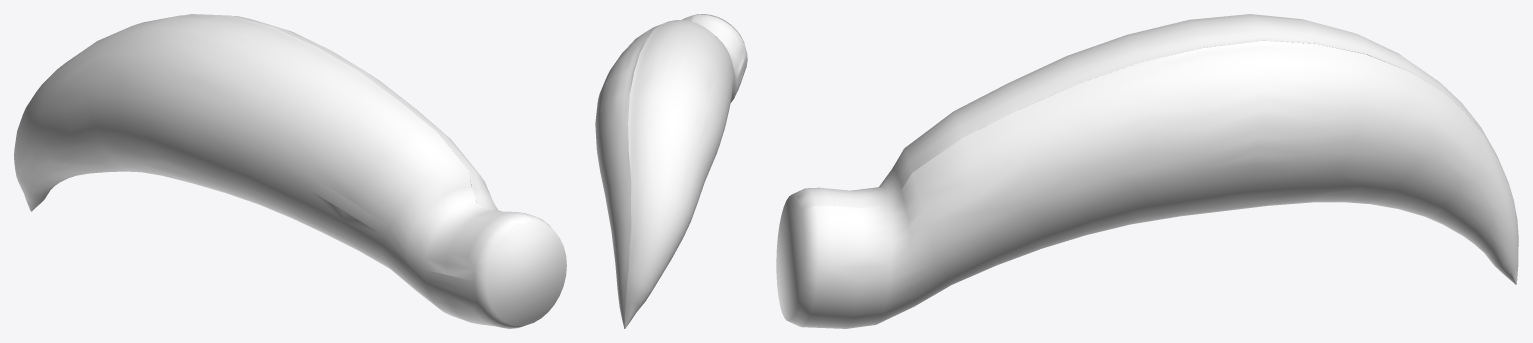
The model's file is hk_arm_right1_iselda.obj.
The picture shows the model from 3 angles, left to right: view 1: azimuth 30°, elevation 25°; view 2: azimuth 150°, elevation 25°; view 3: azimuth 270°, elevation 25°; orthographic projection. The views are drawn at different scales.
Parts seen in each view (by area): view 1: Object_70_HeadIselda; view 2: Object_70_HeadIselda; view 3: Object_70_HeadIselda.
Boxes of the visible parts, x1=… form: Object_70_HeadIselda: x1=14, y1=14, x2=566, y2=328; Object_70_HeadIselda: x1=595, y1=14, x2=747, y2=328; Object_70_HeadIselda: x1=776, y1=14, x2=1518, y2=328.
Bounding box in the file's own units: 0.1077 × 0.0964 × 0.2125.
